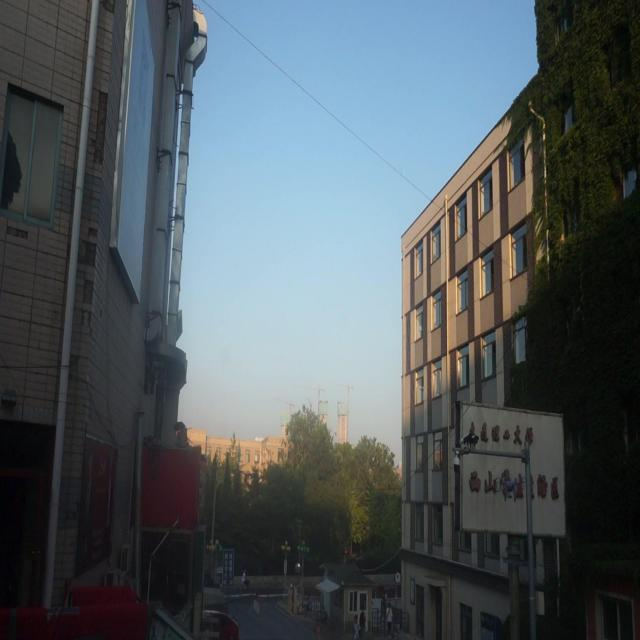UAV: (494, 476, 527, 501)
